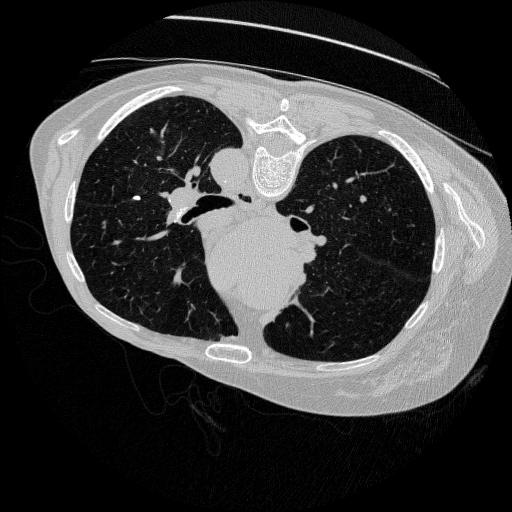nodule: (133, 194, 145, 206)
